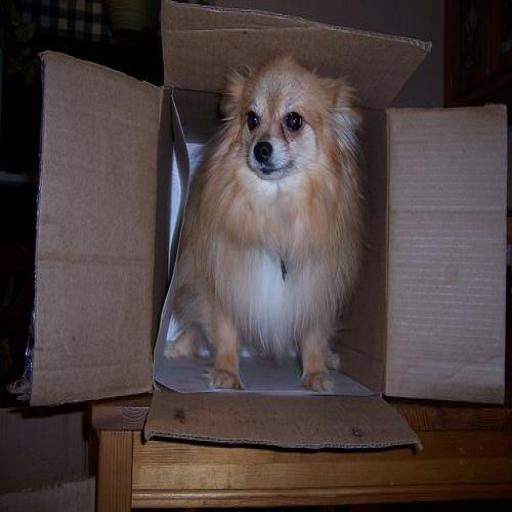dog_face: (221, 58, 356, 188)
